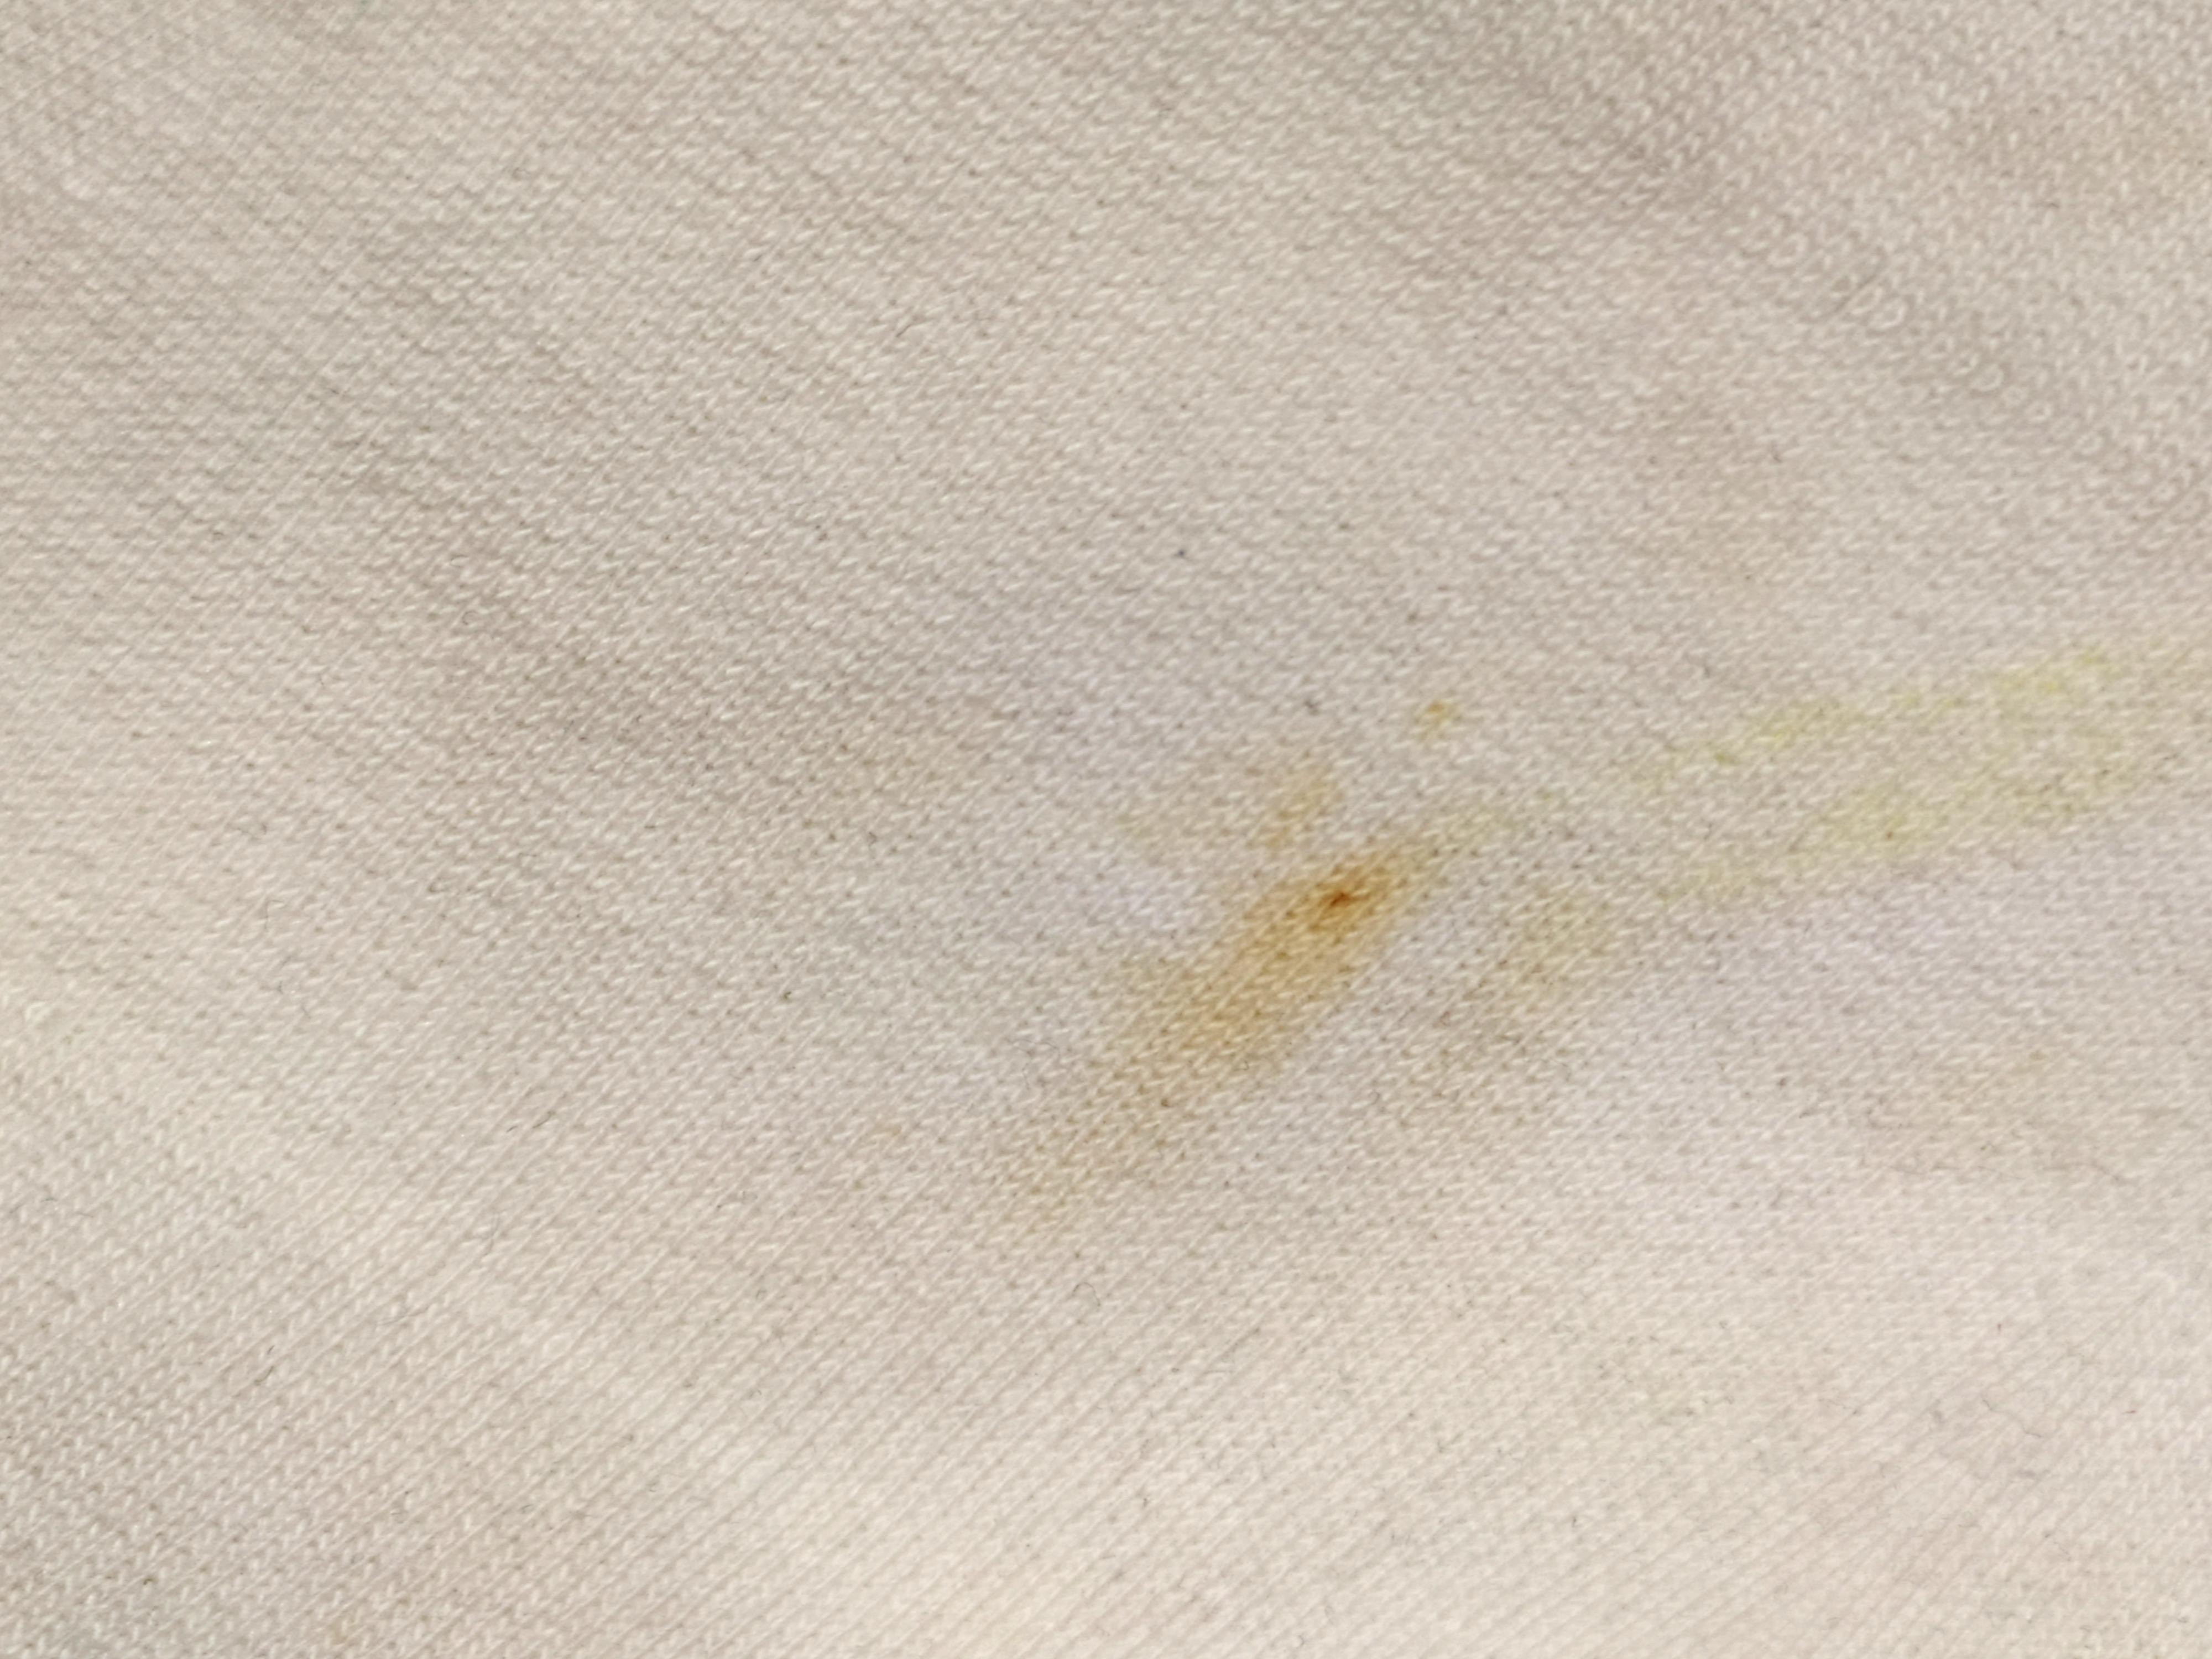stain: (1153, 850, 1444, 1100)
